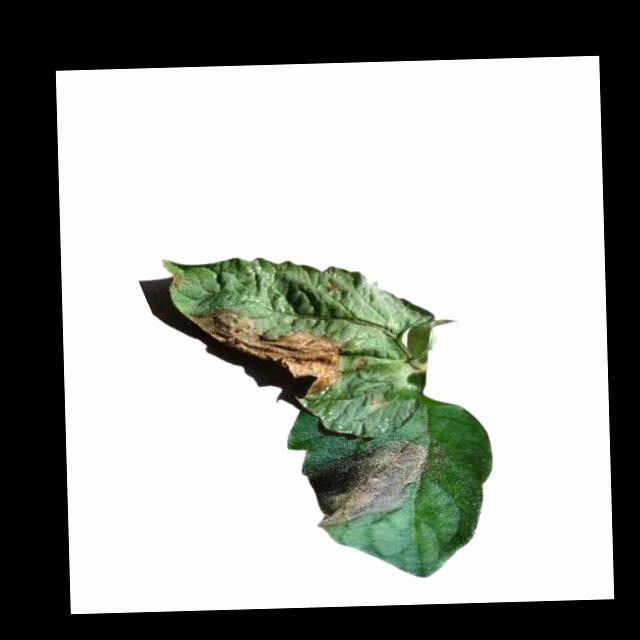Late_blight: (189, 303, 345, 400), (301, 436, 432, 530), (170, 271, 187, 291)
